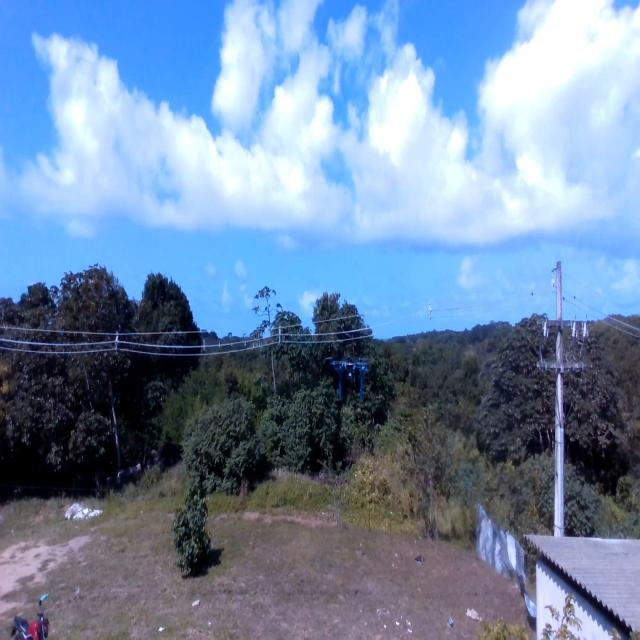-uav-: (326, 348, 375, 415)
